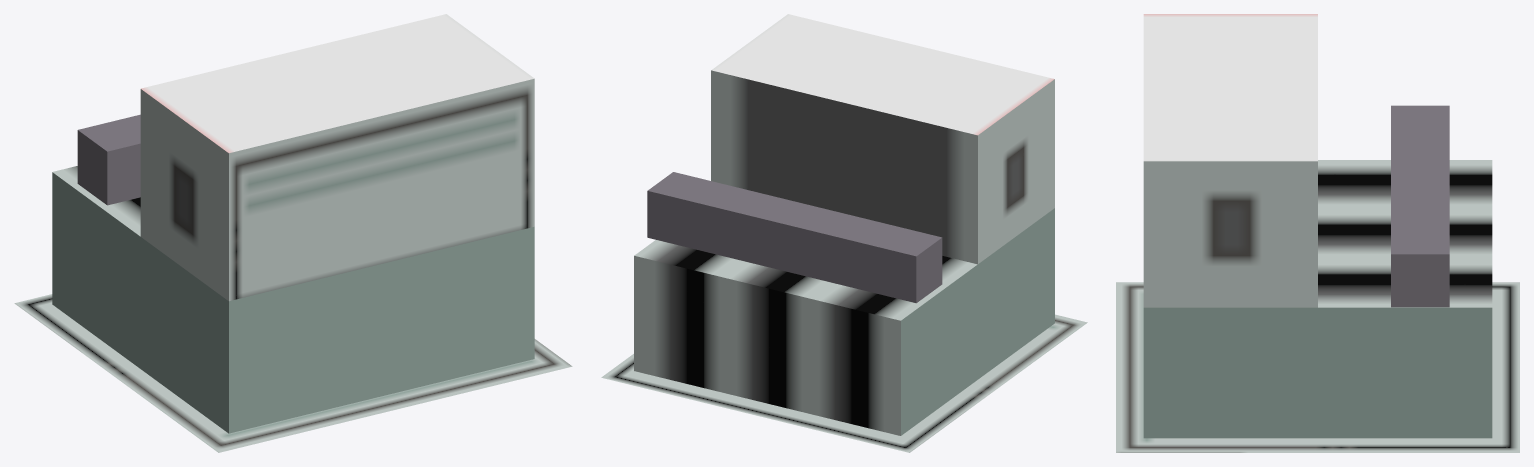
Rendered from Bld_Oil_Refinery_Small_2.fbx.
3 views of the same model, side by side, from view 1: azimuth 30°, elevation 25°; view 2: azimuth 150°, elevation 25°; view 3: azimuth 270°, elevation 25° (orthographic). The views are drawn at different scales.
Parts seen in each view (by area): view 1: BLD_OilRefinery_Small02; view 2: BLD_OilRefinery_Small02; view 3: BLD_OilRefinery_Small02.
Boxes of the visible parts, box(x1,y1,x2,y2) form: BLD_OilRefinery_Small02: box(14, 14, 572, 452); BLD_OilRefinery_Small02: box(601, 14, 1087, 452); BLD_OilRefinery_Small02: box(1116, 14, 1519, 452).
Bounding box in the file's own units: 400 × 400 × 306.
